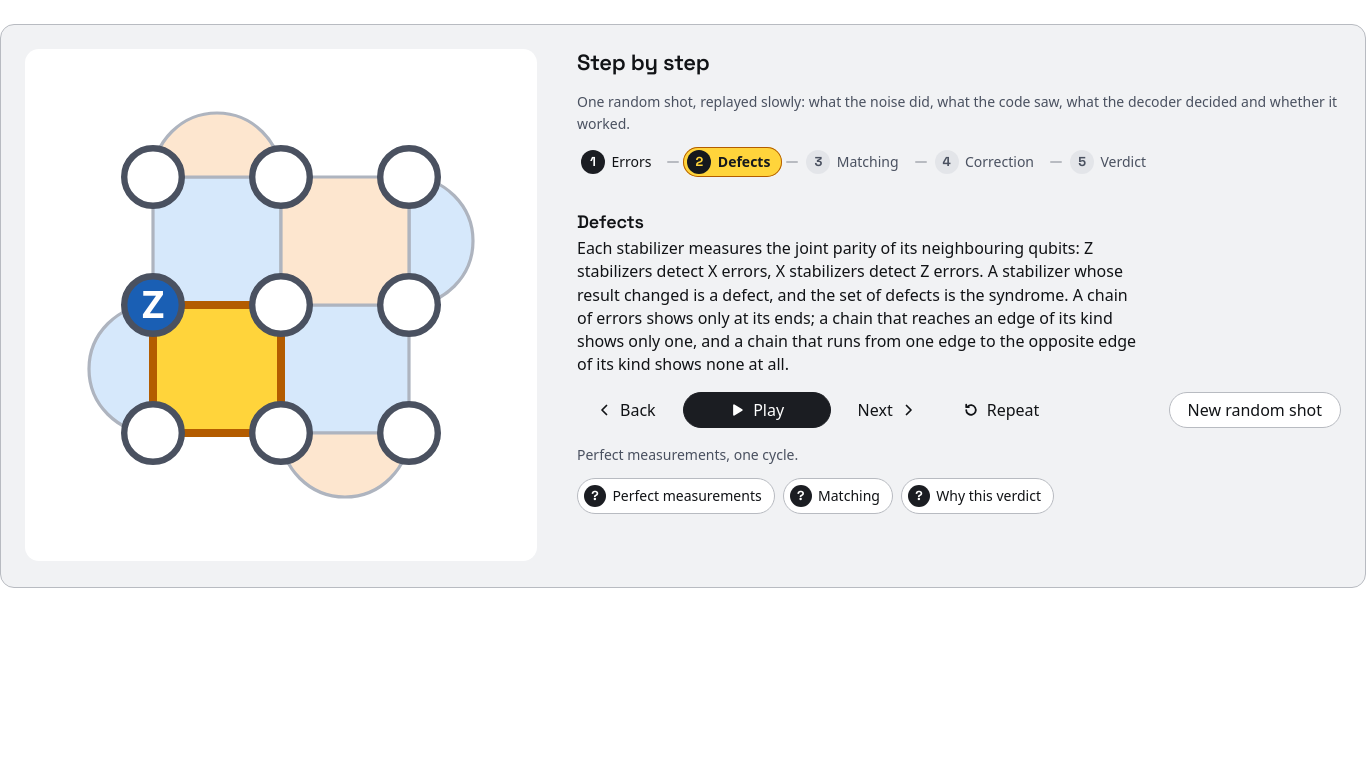
Test: test_intent_trace_computed_once › walking the five steps forward, back, repeat and play decodes nothing new
Earlier steps of the test are not shown.
Click the button "Next" at (887, 410), box [839,392,936,428]
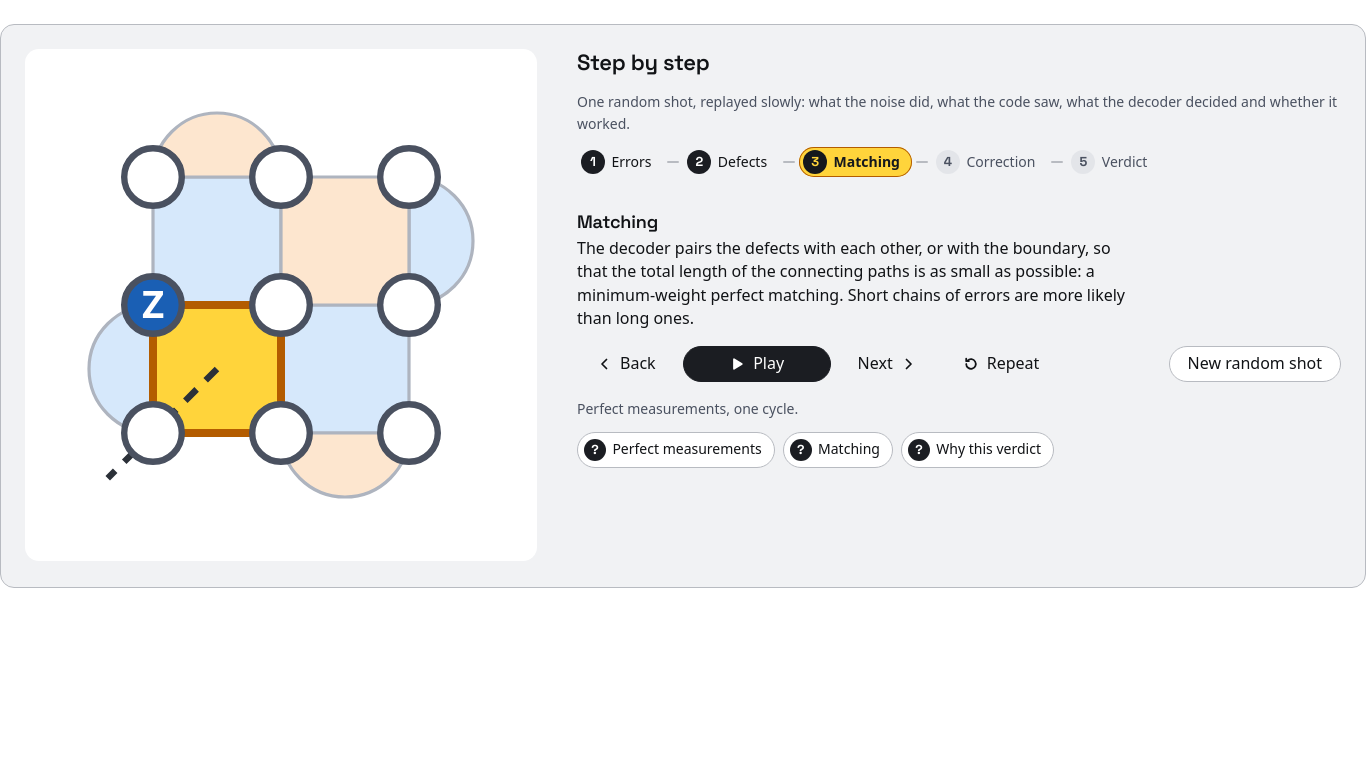
Click the button "Next" at (887, 364), box [839,346,936,382]
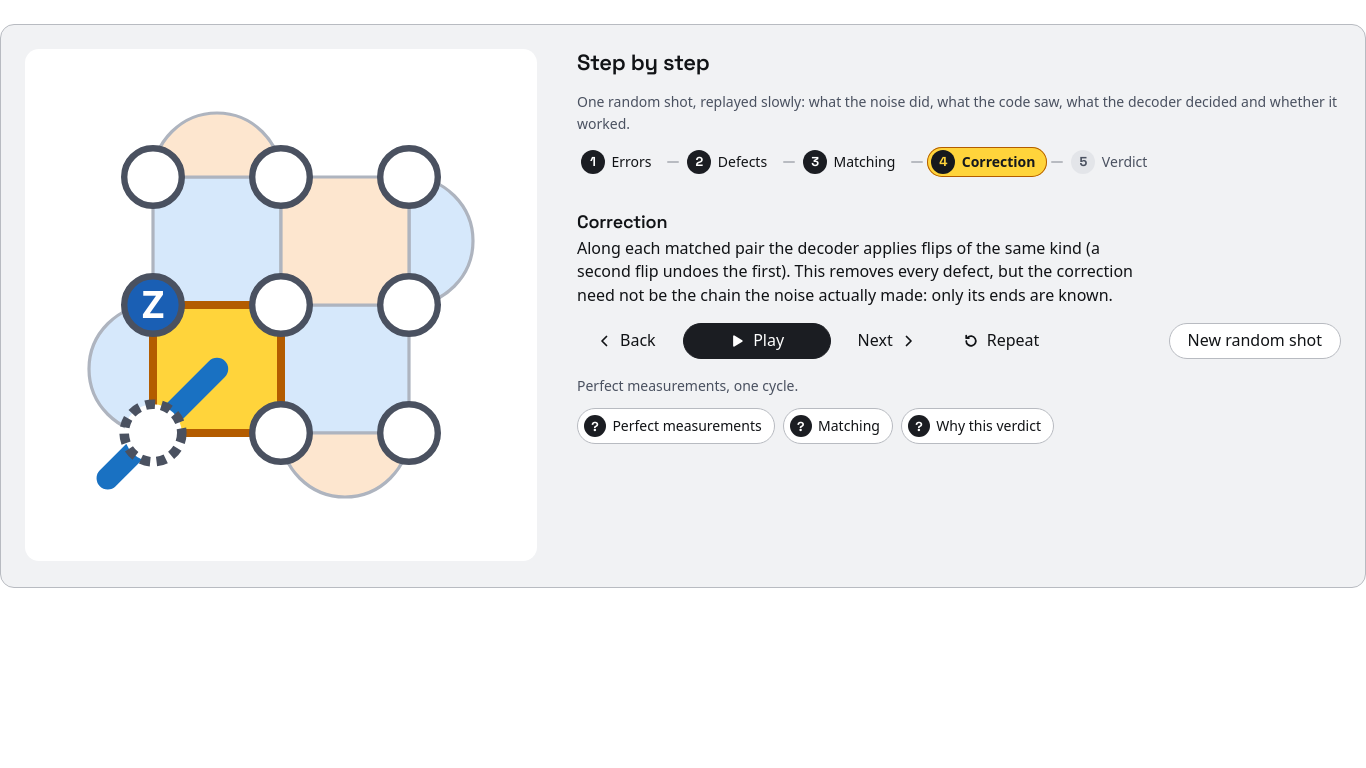
Click the button "Next" at (887, 341), box [839,323,936,359]
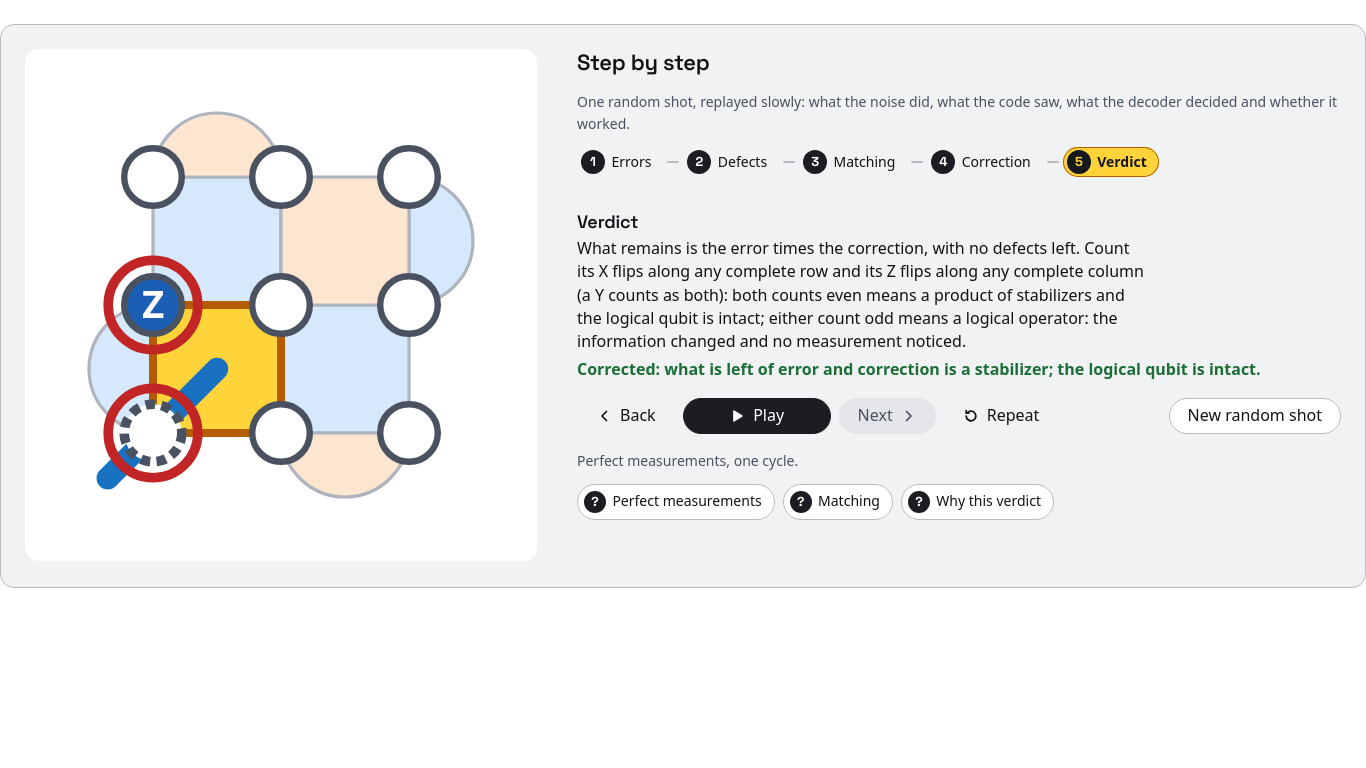
Click the button "Back" at (626, 416), box [577,398,675,434]
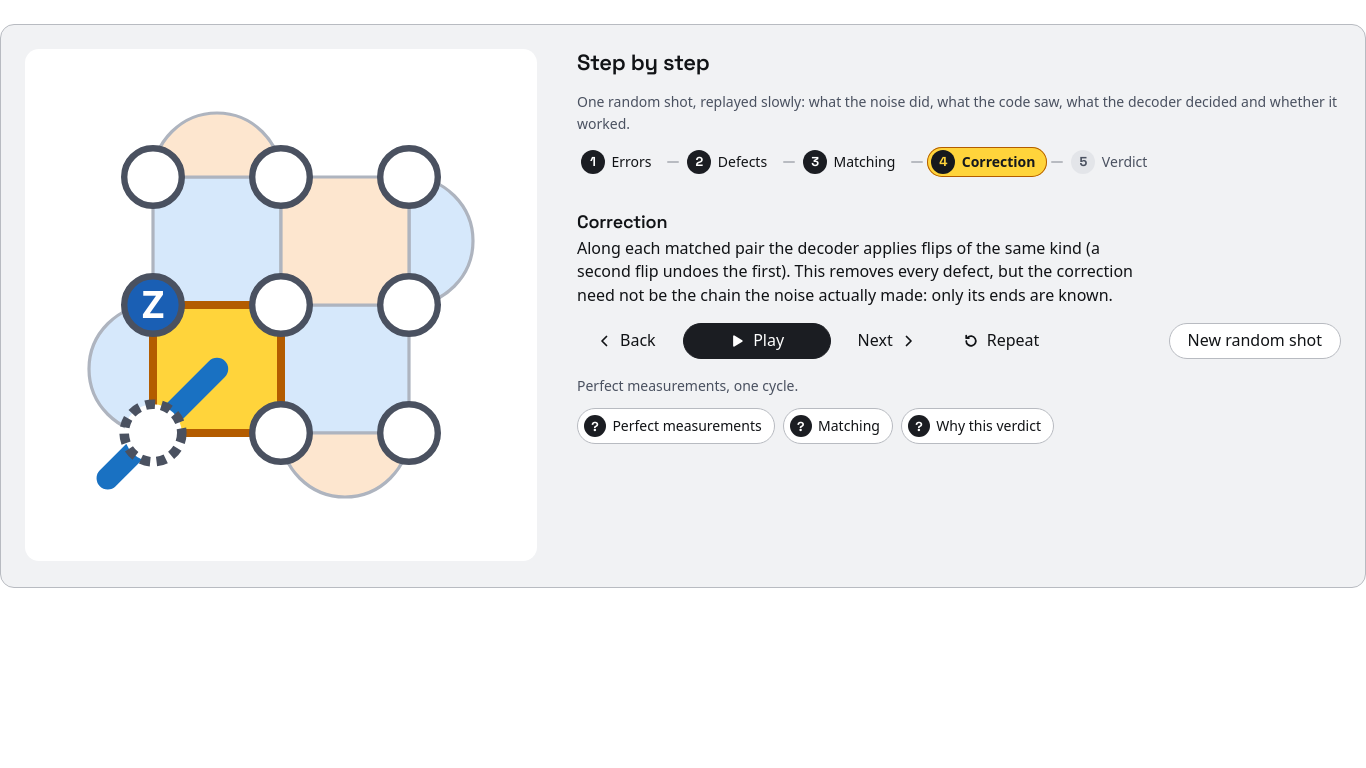
Click the button "Repeat" at (1001, 341), box [944,323,1058,359]
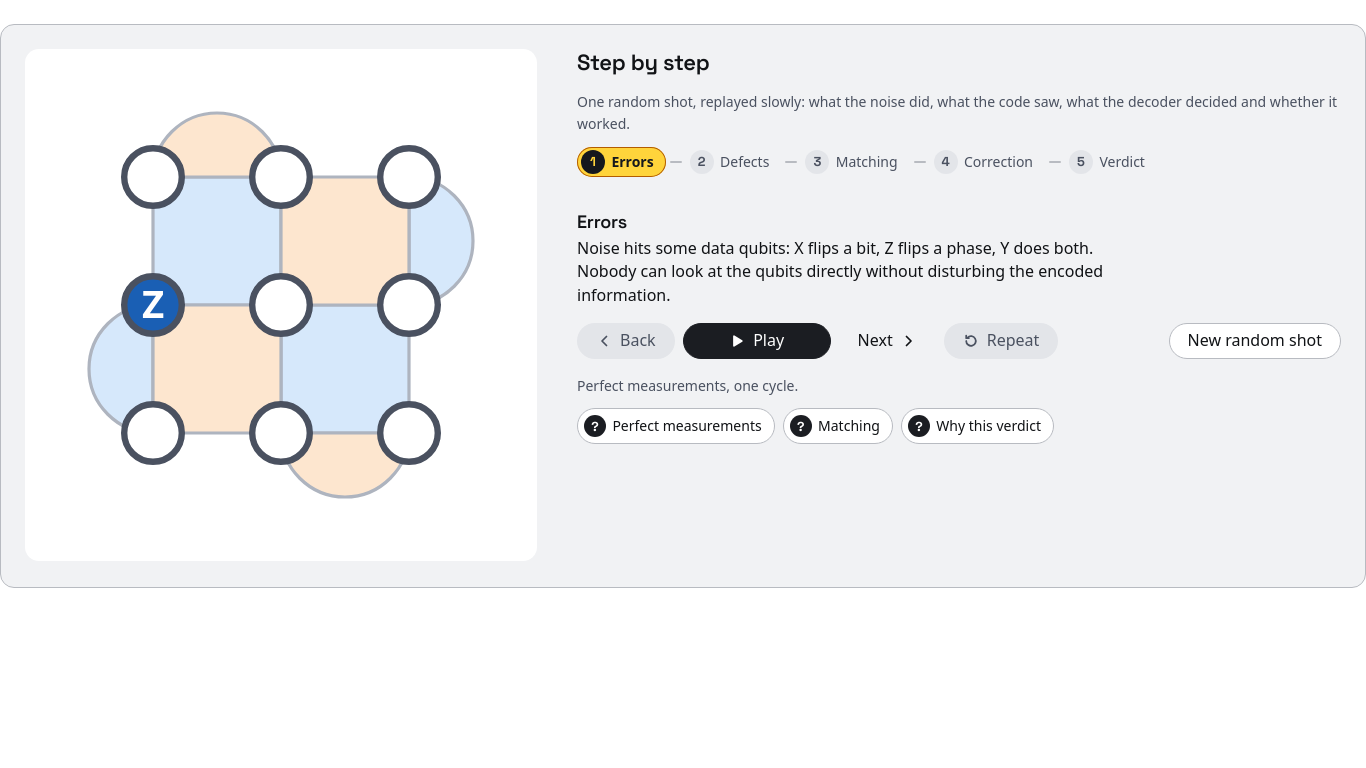
Click the button "Play" at (757, 341), box [683,323,831,359]
Wait 6000 ms
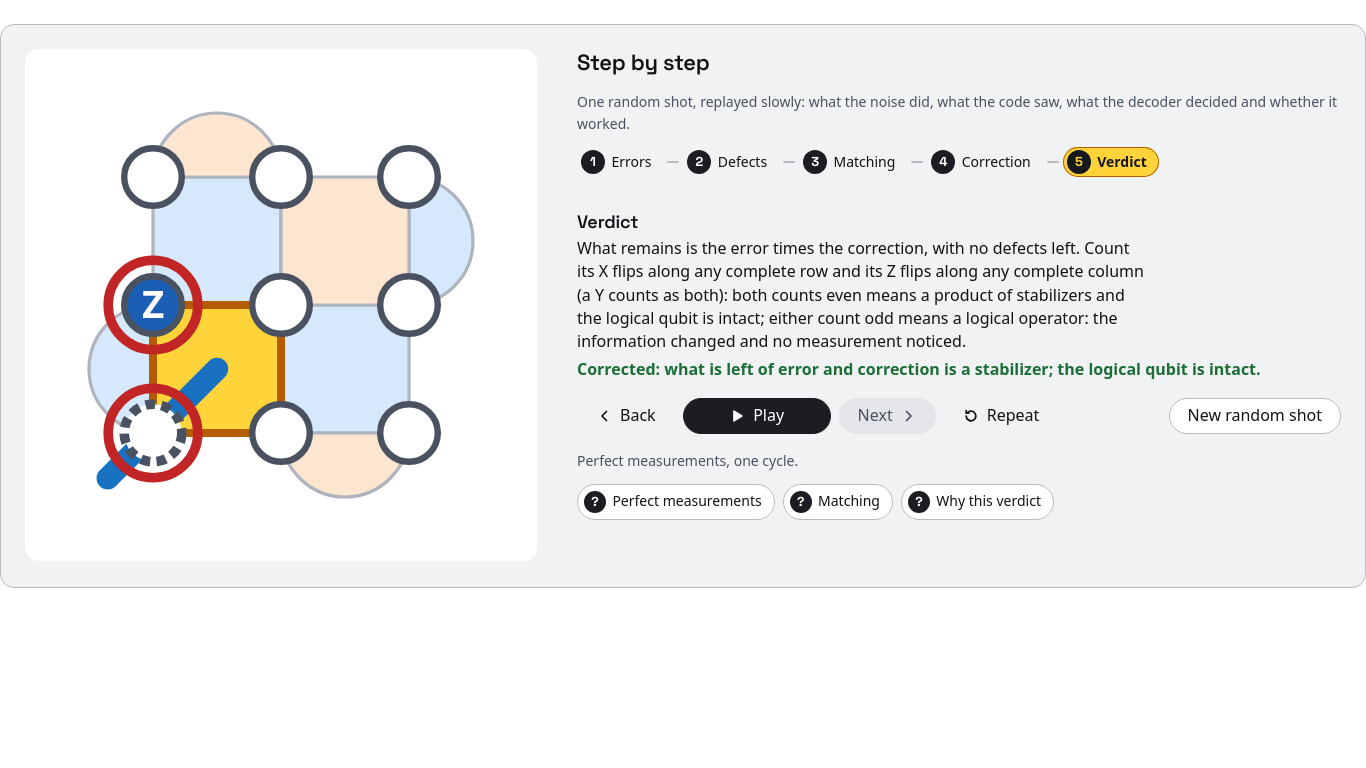
Expected: the element named "Z stabilizer (0, 0)Z stabilizer (0, 2)Z stabilizer (1, -1)Z" has attribute data-step="4"
